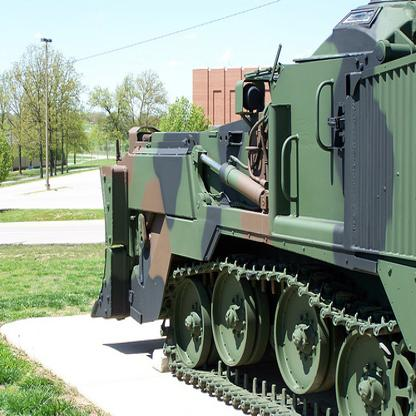Tank: (96, 33, 416, 416)
